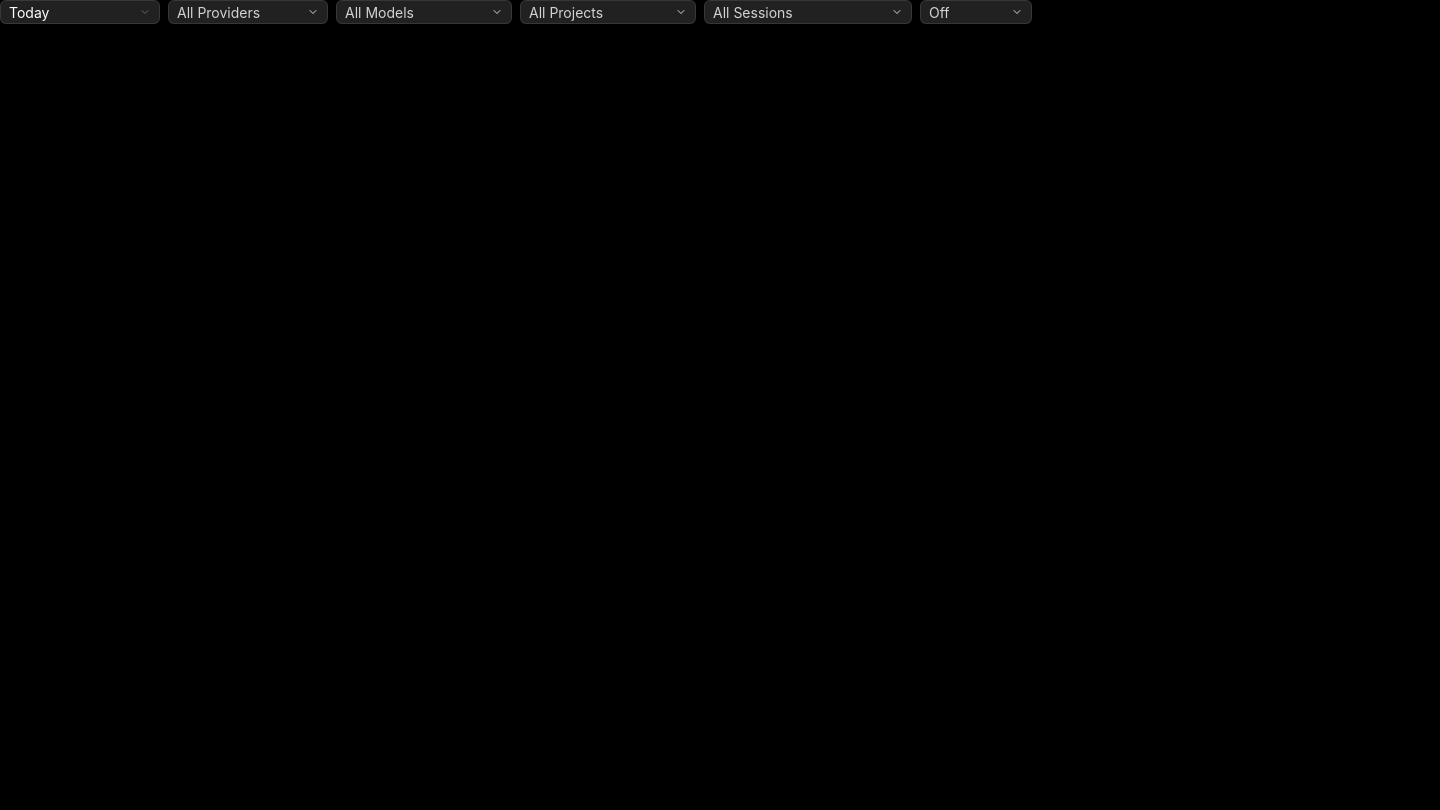
Test: UsageFilters › 时间范围控件展示预设名并展开双月历与预设行
The image size is (1440, 810).
Click the button with class "lx-datepicker-trigger".
click(80, 12)  # box [0,0,160,24]
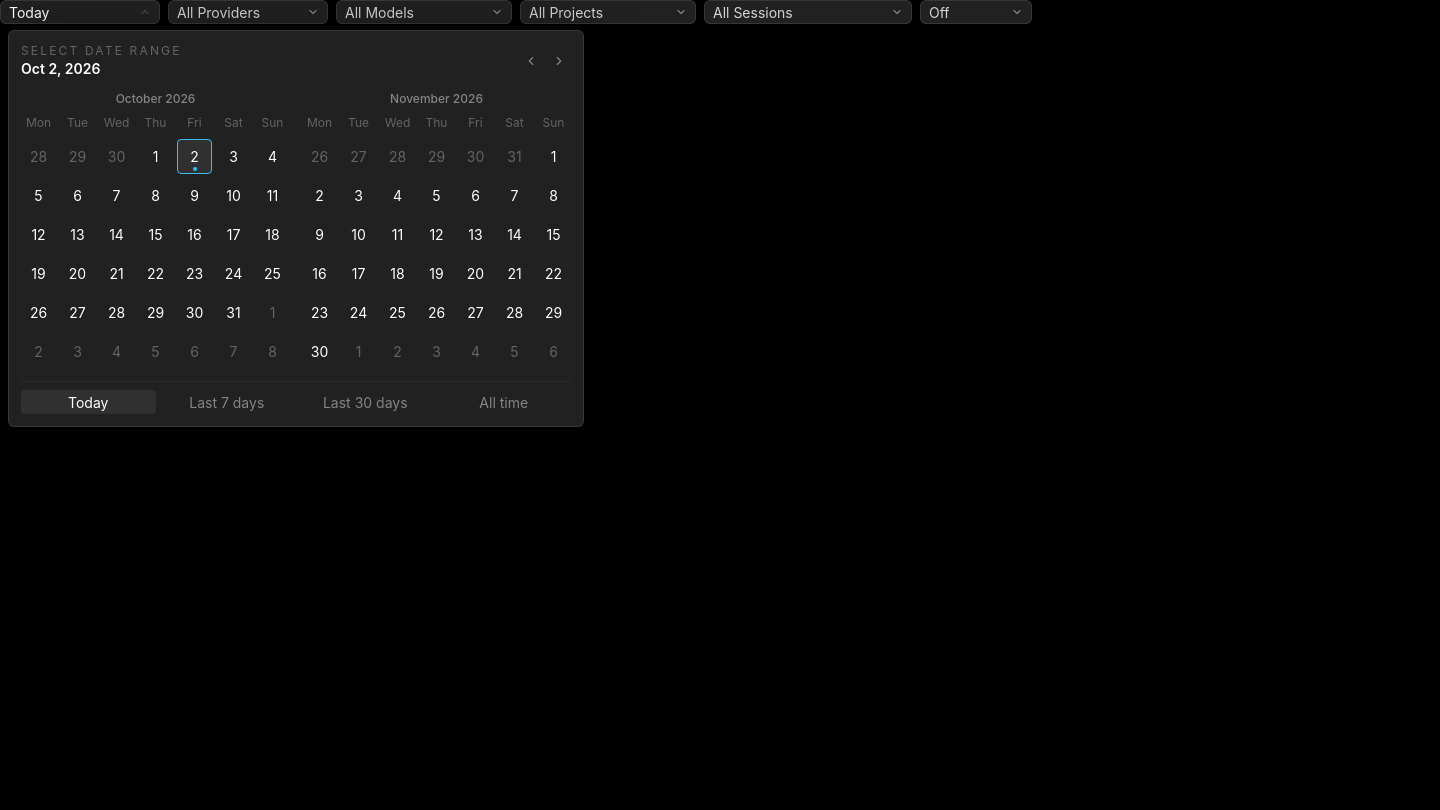
Expected: the number of elements with class "lx-datepicker-month-grid" is 2, [21,91,290,369]; [302,91,571,369]
Expected: the button "Last 7 days" is shown, [160,390,294,414]
Expected: the button "All time" is shown, [436,390,571,414]
